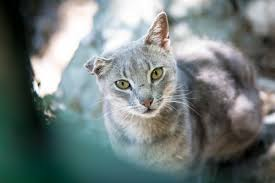cat: (86, 9, 274, 163)
